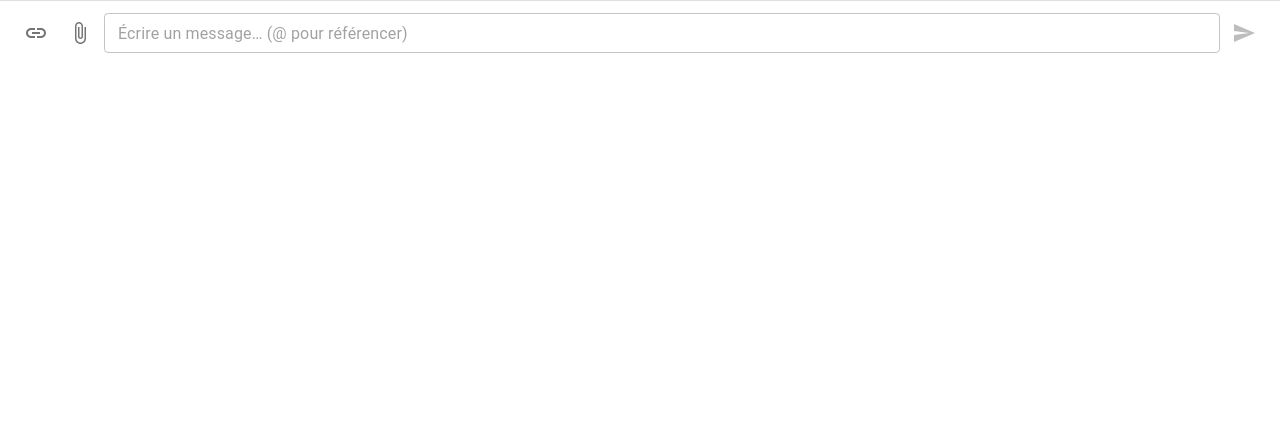
Test: MessageComposer › le bouton « Insérer une référence » insère `@` (précédé d’un espace si besoin) et ouvre le sélecteur
The image size is (1280, 424).
Type "Bonjour" into the text box named "Nouveau message" at (662, 33), box [118,22,1206,44]
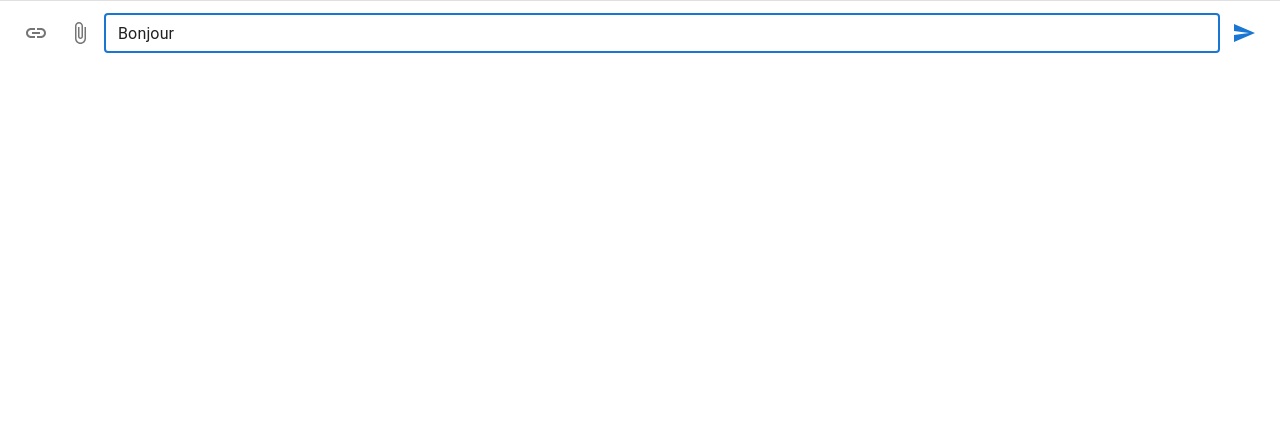
Click the button named "Insérer une référence" at (36, 33), box [16,13,56,53]
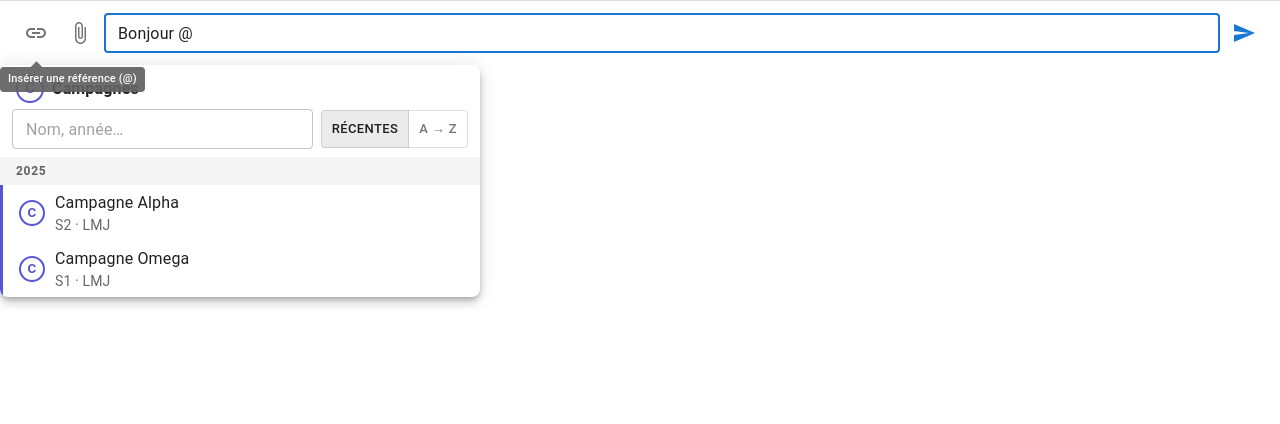
Now the text box named "Nouveau message" holds "Bonjour @", box [118,22,1206,44]
Click the menu item "C Campagne Alpha S2 · LMJ" at (117, 202), box [0,185,480,241]
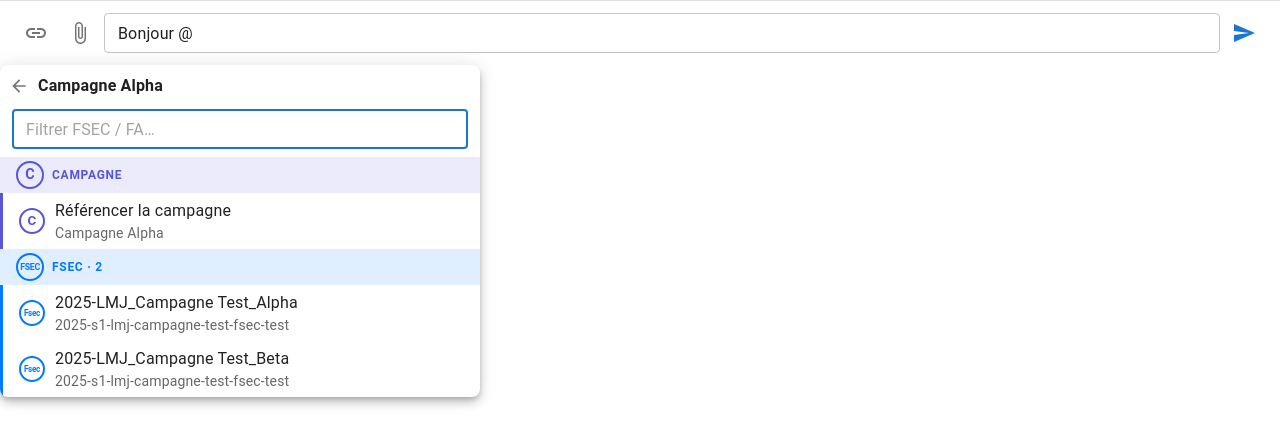
Click the 3rd menu item at (240, 369), box [0,341,480,397]
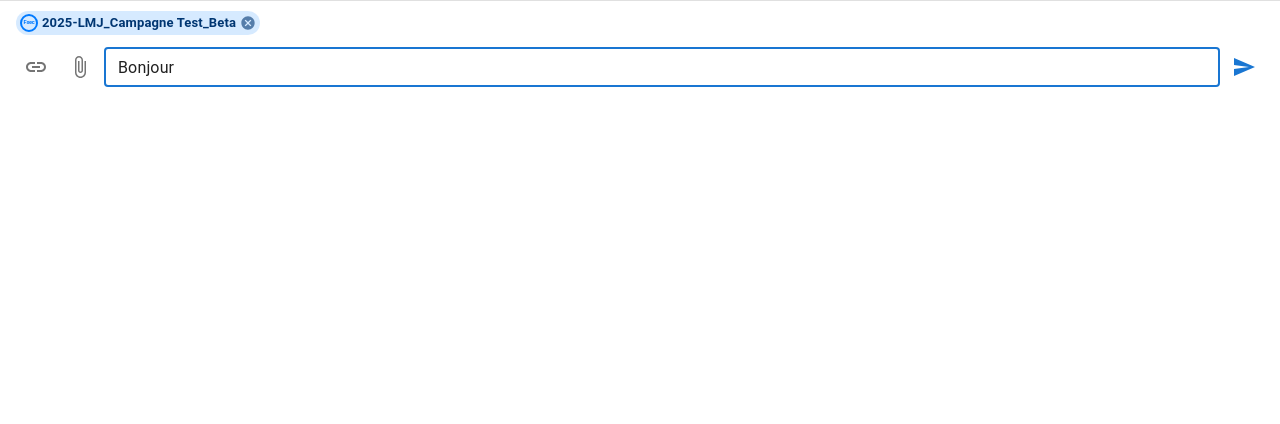
Now the element named "Références attachées" shows "Beta", box [42,15,236,30]
Clear the text box named "Nouveau message" at (662, 67), box [118,56,1206,78]
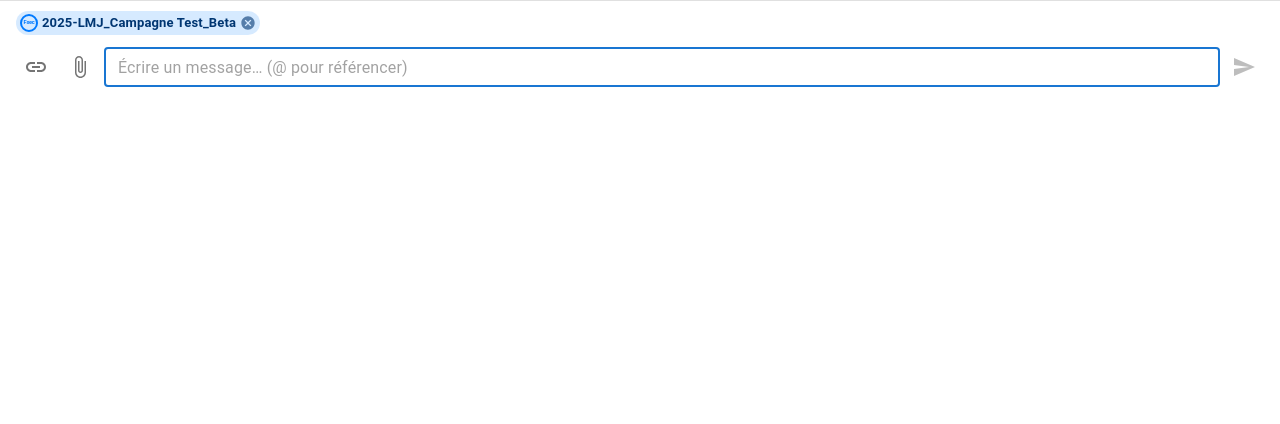
Click the button named "Insérer une référence" at (36, 67), box [16,47,56,87]
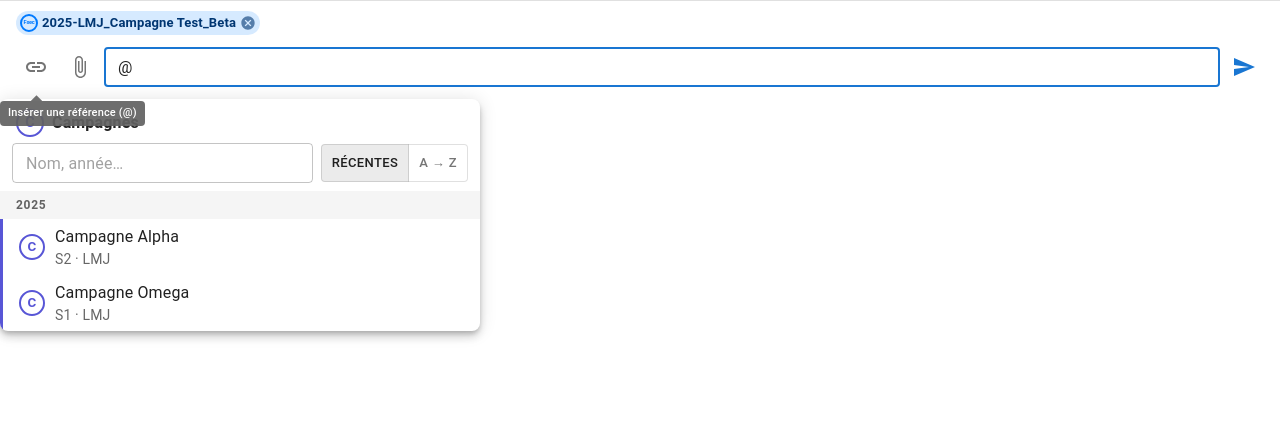
Now the text box named "Nouveau message" holds "@", box [118,56,1206,78]
